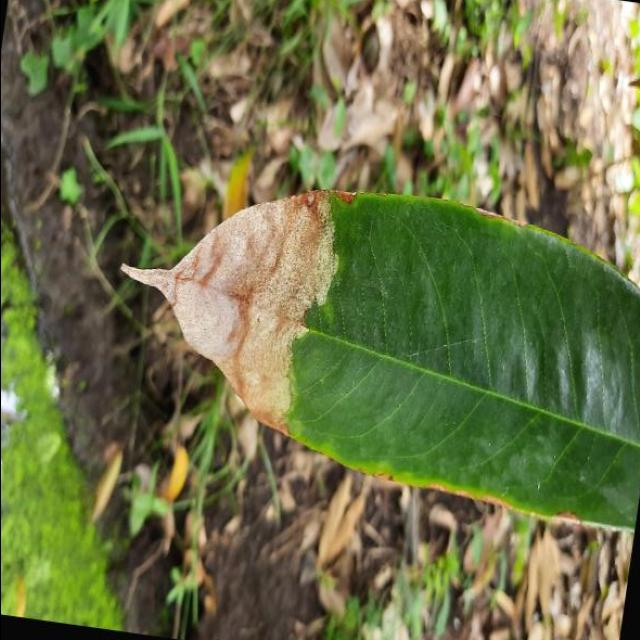Leaf Blight: (86, 144, 640, 540)
